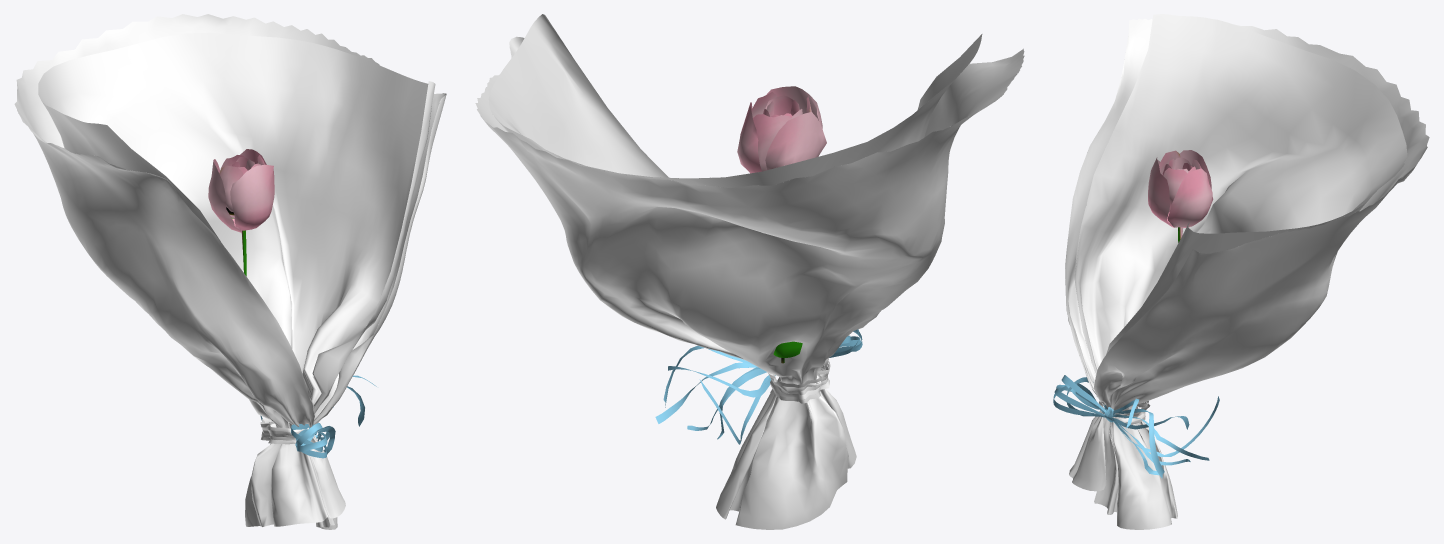
3 views of the same model, side by side, from view 1: azimuth 30°, elevation 25°; view 2: azimuth 150°, elevation 25°; view 3: azimuth 270°, elevation 25° (orthographic). The views are drawn at different scales.
Parts seen in each view (by area): view 1: inner, outer, Geometry, ribbon, parcel_knot; view 2: outer, inner, Geometry, ribbon, parcel_knot; view 3: inner, outer, Geometry, ribbon.
Boxes of the visible parts, x1,y1,x2,y2 form: inner: (38,32,435,428); outer: (14,14,446,529); Geometry: (208,149,274,276); ribbon: (260,375,376,458); parcel_knot: (260,418,308,444); outer: (475,36,1024,529); inner: (488,14,982,187); Geometry: (737,86,826,363); ribbon: (655,329,862,444); parcel_knot: (767,358,830,403); inner: (1074,14,1407,376); outer: (1065,18,1429,529); Geometry: (1148,150,1213,242); ribbon: (1053,375,1219,478).
Size of the model in its own units: 1.81 by 1.9 by 1.55.
6 materials, 1 textured.
